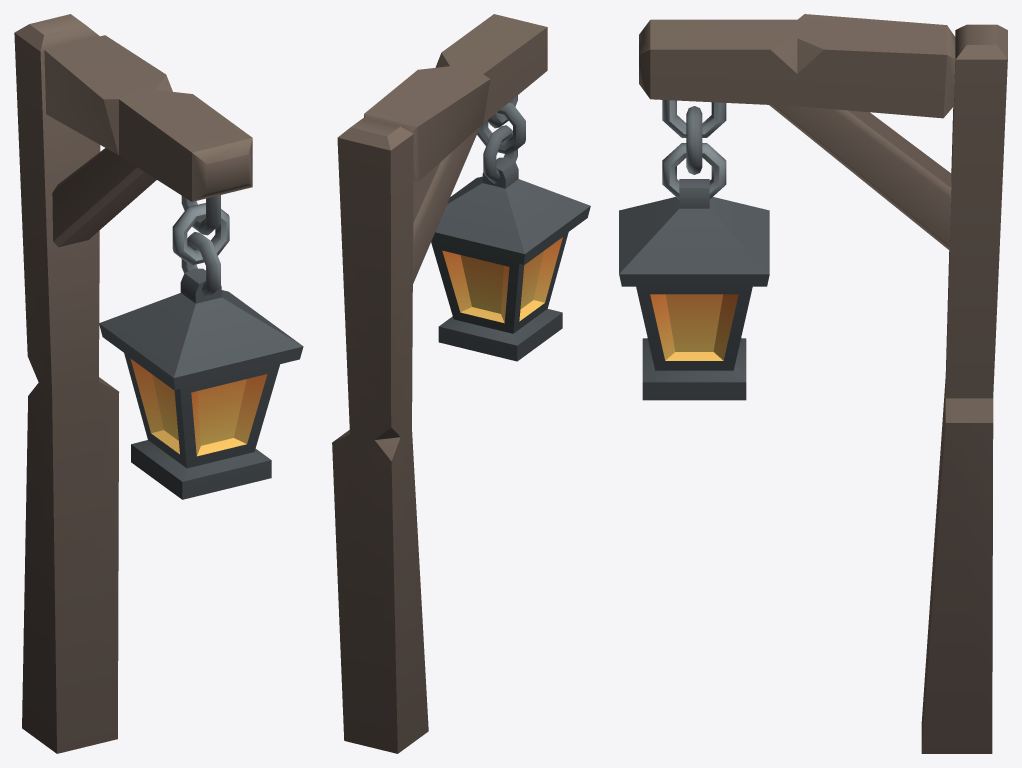
Rendered from Post_Lantern.glb.
3 views of the same model, side by side, from view 1: azimuth 30°, elevation 25°; view 2: azimuth 150°, elevation 25°; view 3: azimuth 270°, elevation 25° (orthographic). The views are drawn at different scales.
Parts seen in each view (by area): view 1: post_lantern, post_lantern_lantern; view 2: post_lantern, post_lantern_lantern; view 3: post_lantern, post_lantern_lantern.
Boxes of the visible parts, box(x1,y1,x2,y2) form: post_lantern: box(14, 14, 252, 753); post_lantern_lantern: box(99, 195, 303, 499); post_lantern: box(332, 14, 547, 753); post_lantern_lantern: box(431, 95, 590, 361); post_lantern: box(639, 14, 1007, 753); post_lantern_lantern: box(619, 100, 769, 400).
Size of the model in its own units: 0.32 by 1.65 by 0.8255.
Materials: 1 (1 with a texture image).
